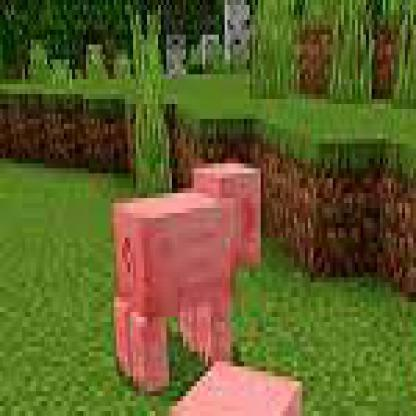minecraft-pigs: (84, 142, 286, 404), (116, 346, 324, 412), (408, 253, 414, 412)
